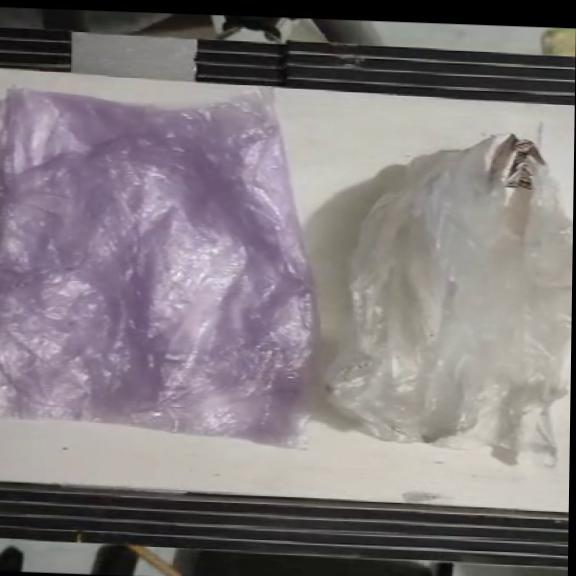Plastik: (0, 76, 321, 449), (321, 128, 574, 472)
